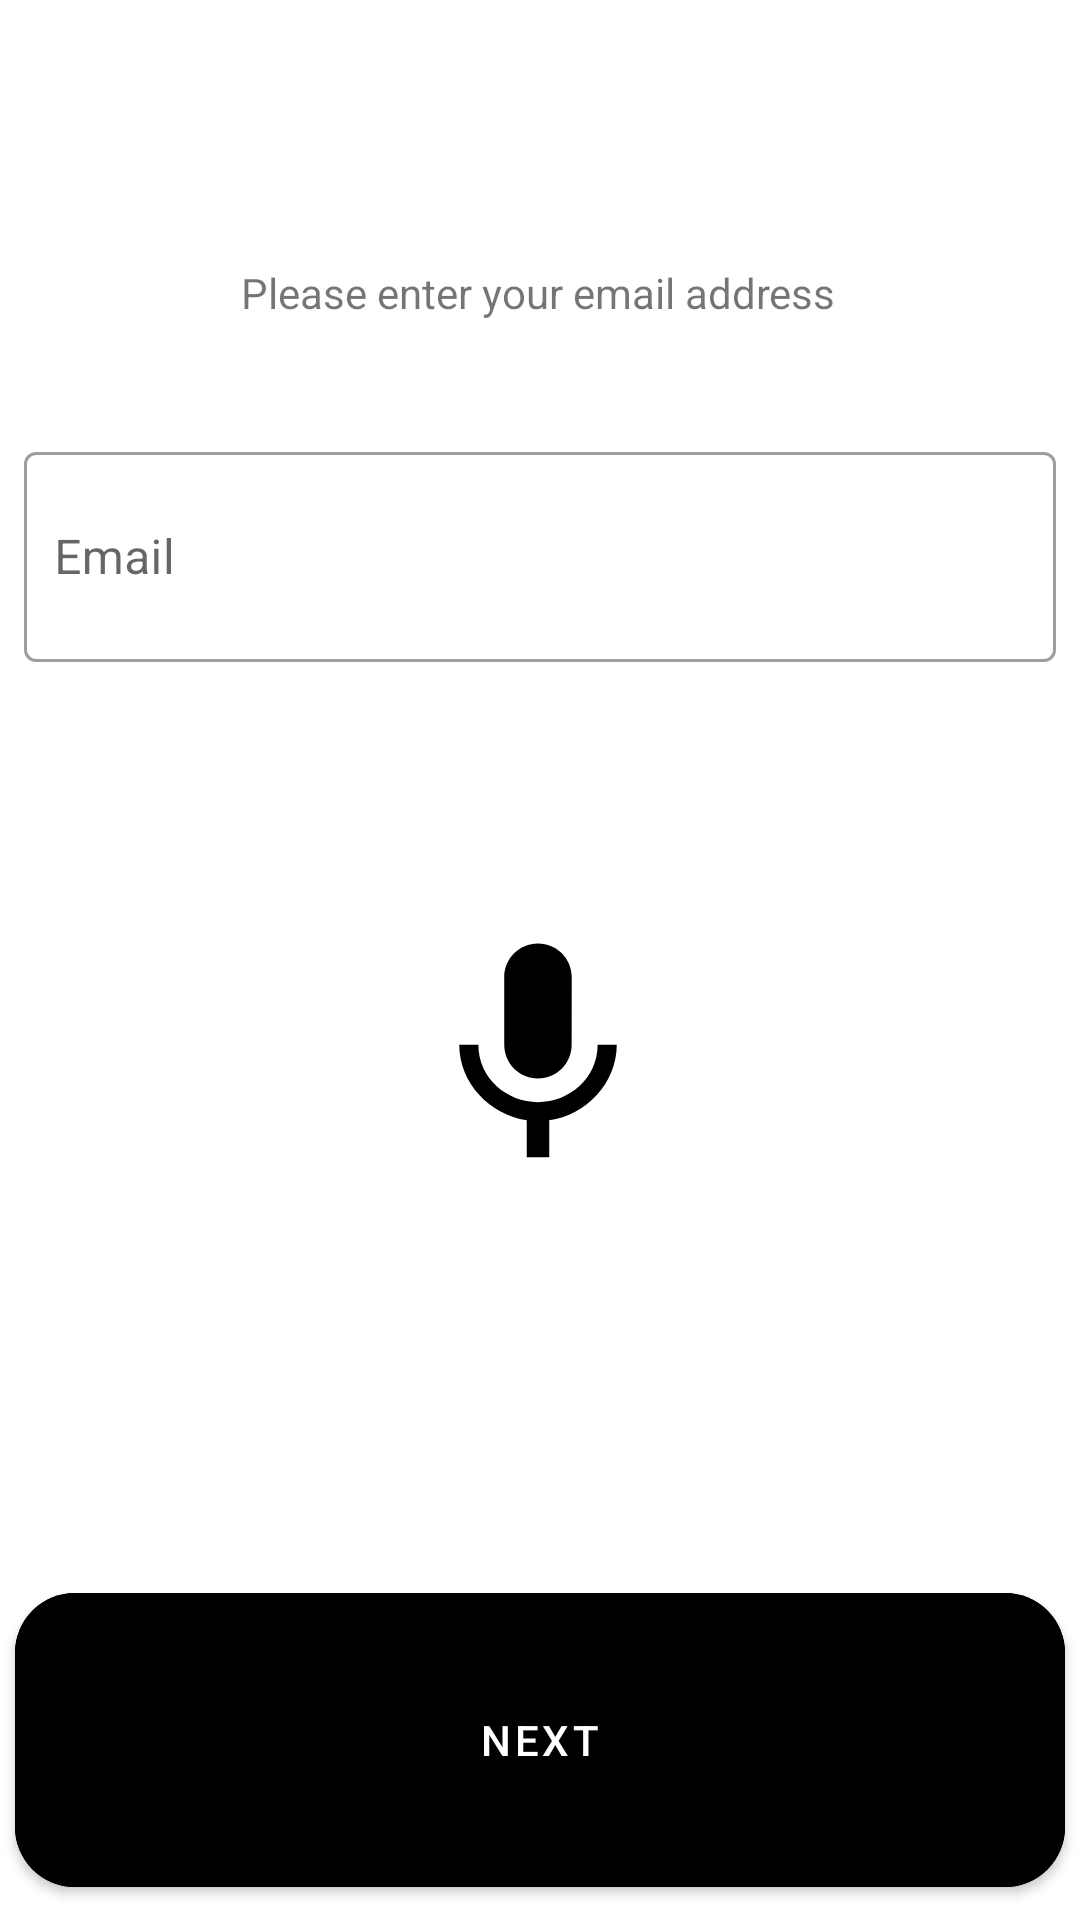

Icons on this 1080x1920 Android screen, each with its box as (x1, y1, x2, y2):
mic: (459, 943, 617, 1158)
